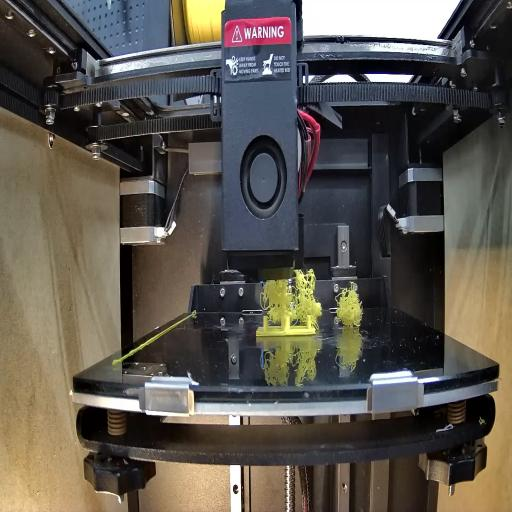spaghetti: (258, 269, 324, 320), (333, 286, 363, 328)
